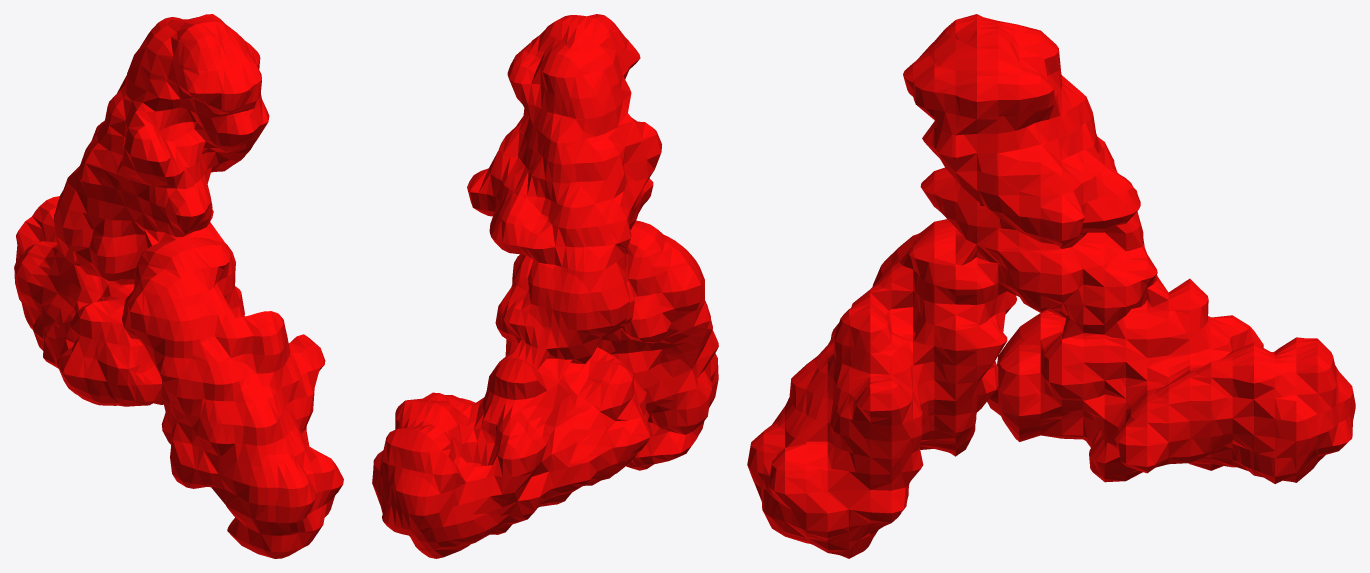
Rendered from yhhX_coarse.dae.
3 views of the same model, side by side, from view 1: azimuth 30°, elevation 25°; view 2: azimuth 150°, elevation 25°; view 3: azimuth 270°, elevation 25° (orthographic). The views are drawn at different scales.
Parts seen in each view (by area): view 1: yhhX; view 2: yhhX; view 3: yhhX.
Boxes of the visible parts, <box> form: yhhX: <box>14,14,343,558</box>; yhhX: <box>372,14,718,558</box>; yhhX: <box>747,14,1355,558</box>.
Bounding box in the file's own units: 66.39 × 175 × 182.
